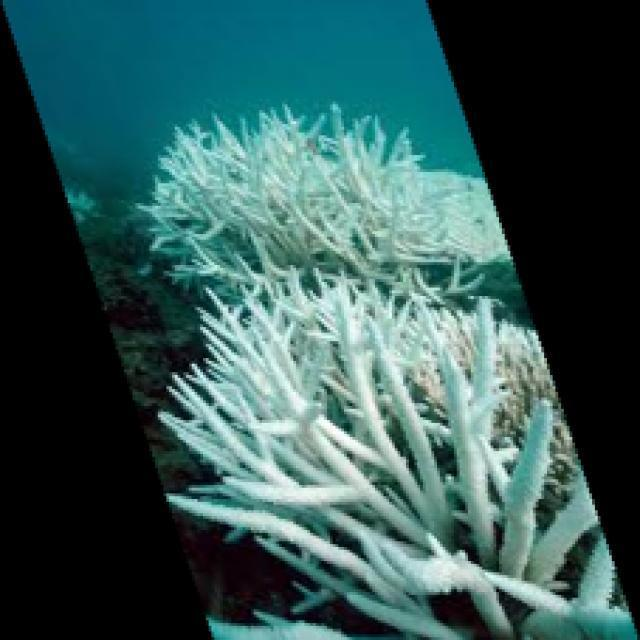Bleached: (157, 255, 640, 640), (140, 105, 430, 263), (402, 312, 583, 497), (418, 171, 516, 264)
